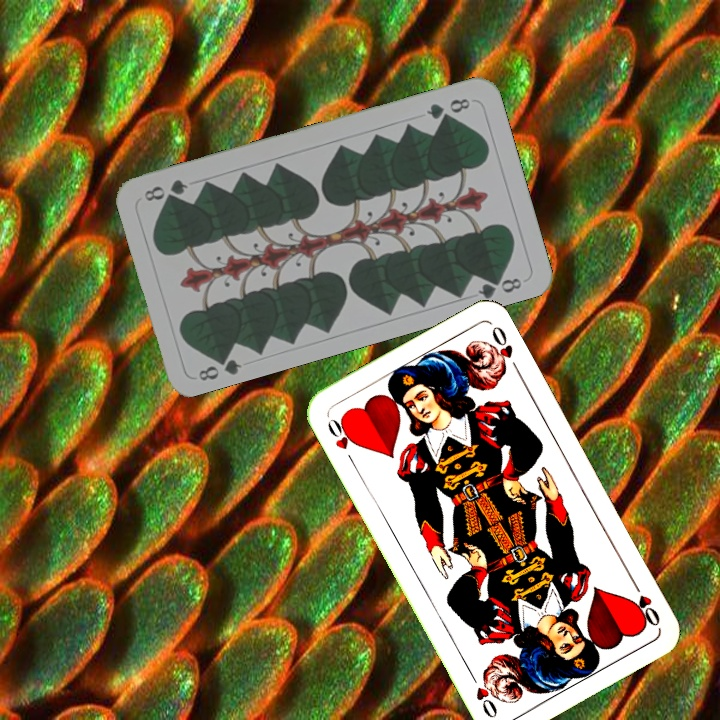G8: (194, 349, 245, 384), (422, 94, 473, 122)
HO: (323, 413, 360, 467), (628, 575, 663, 629)
